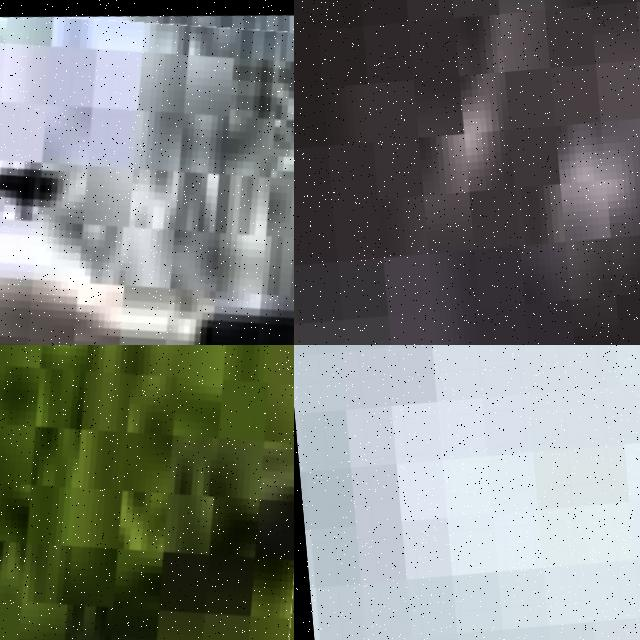drone: (0, 0, 294, 345), (0, 345, 294, 640)
